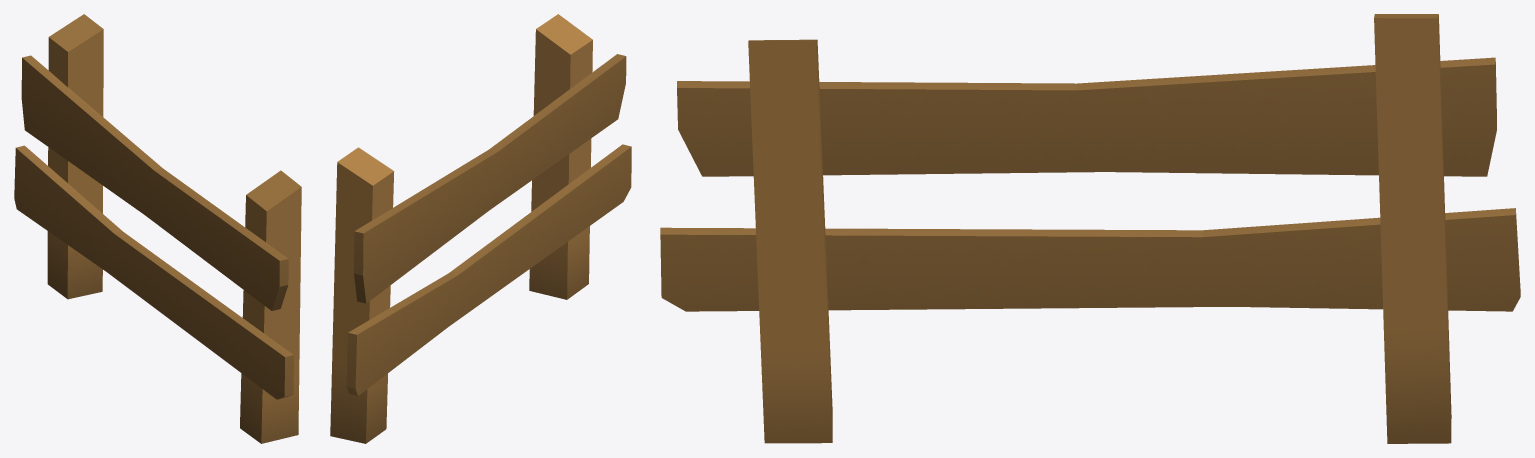
Rendered from Fence.FBX.
3 views of the same model, side by side, from view 1: azimuth 30°, elevation 25°; view 2: azimuth 150°, elevation 25°; view 3: azimuth 270°, elevation 25° (orthographic). The views are drawn at different scales.
Parts seen in each view (by area): view 1: Fence; view 2: Fence; view 3: Fence.
Boxes of the visible parts, x1=… form: Fence: x1=14, y1=14, x2=301, y2=443; Fence: x1=330, y1=14, x2=631, y2=443; Fence: x1=660, y1=14, x2=1520, y2=443.
Size of the model in its own units: 20.86 by 114 by 210.
